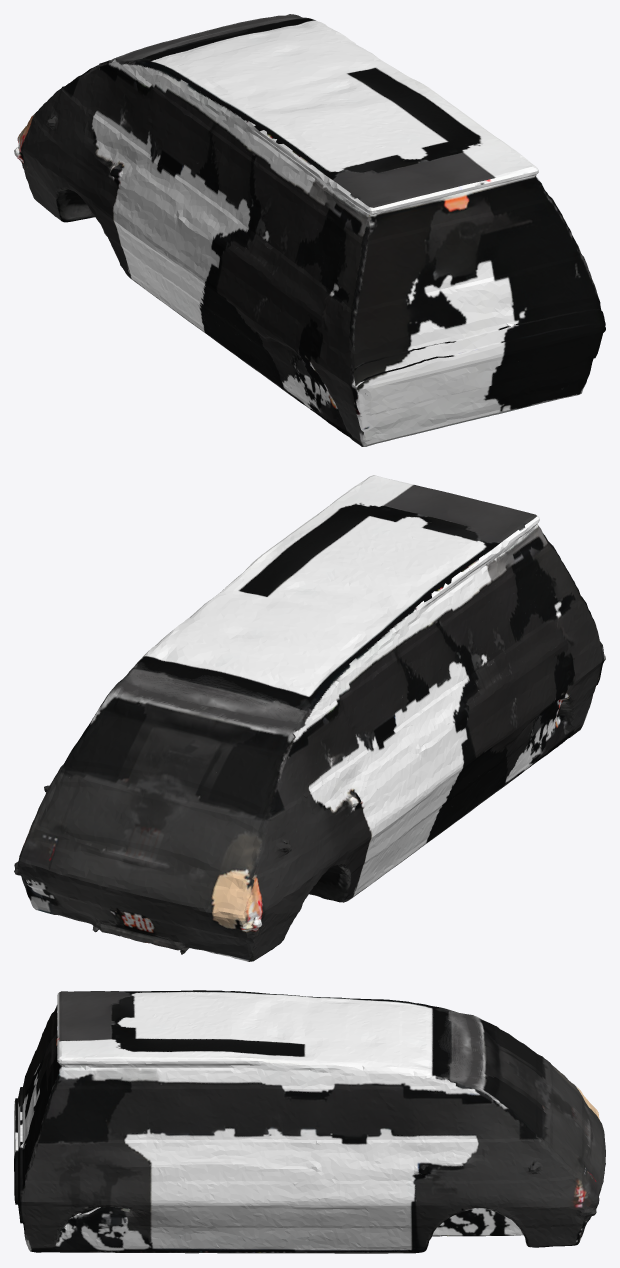
3 renders of one model, top to bottom at view 1: azimuth 30°, elevation 25°; view 2: azimuth 150°, elevation 25°; view 3: azimuth 270°, elevation 25°, orthographic. The views are drawn at different scales.
Parts seen in each view (by area): view 1: world; view 2: world; view 3: world.
Boxes of the visible parts, left/top/right/bottom form: world: left=14, top=14, right=605, bottom=446; world: left=14, top=475, right=605, bottom=961; world: left=14, top=990, right=605, bottom=1253.
Bounding box in the file's own units: 0.4211 × 0.3479 × 0.995.
Materials: 1 (1 with a texture image).
